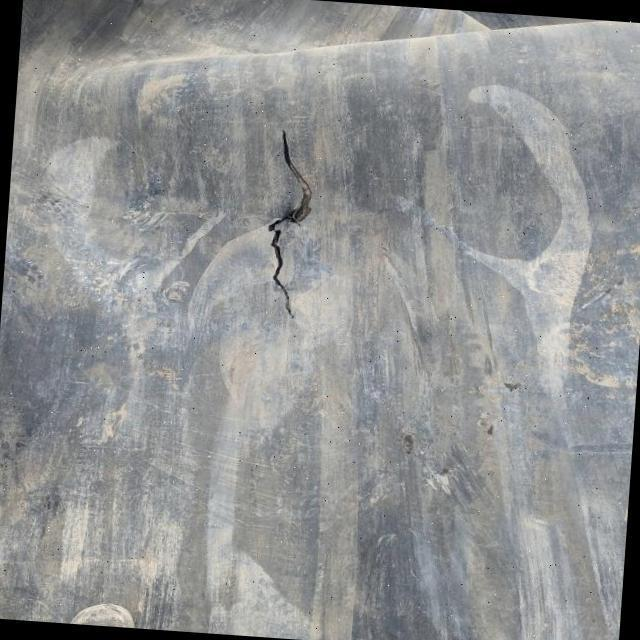Tear: (262, 126, 316, 322)
